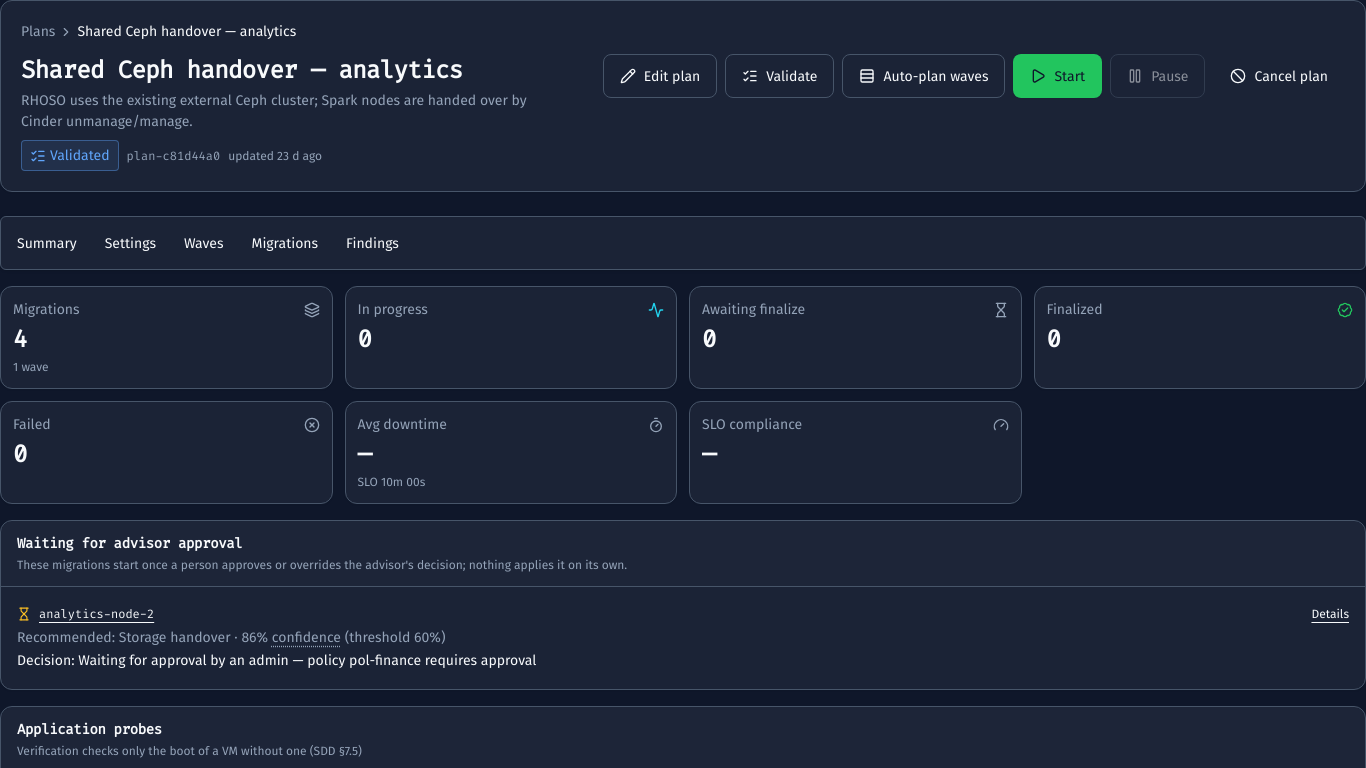
PlanDetail › names kept ports in the settings summary, and the edit form sends only that change (SDD §16)
Expected: the text "mac and fixed ips kept" is not shown
Click the button "Edit plan" at (660, 76), box [603,54,717,98]
(page scrolled)
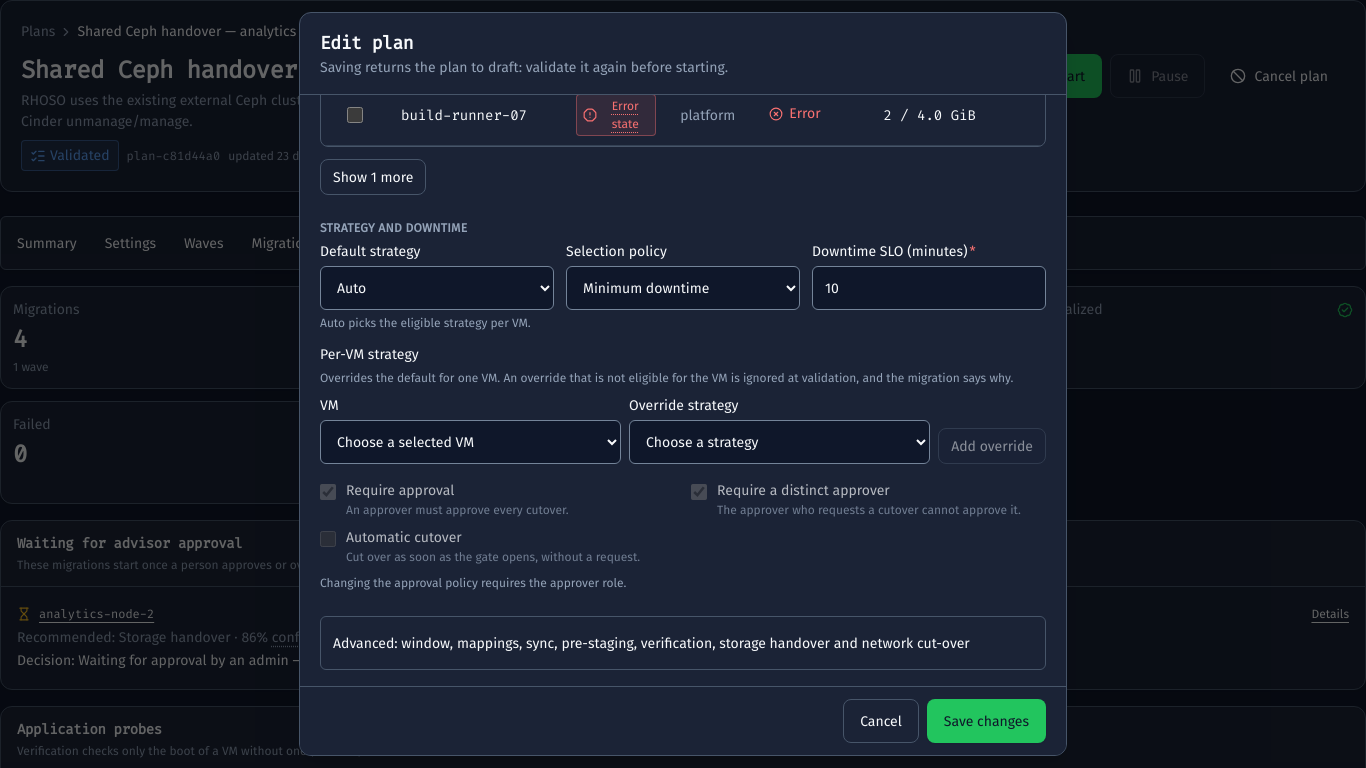
Click the heading "Advanced:" at (651, 643), box [333,634,970,652]
(page scrolled)
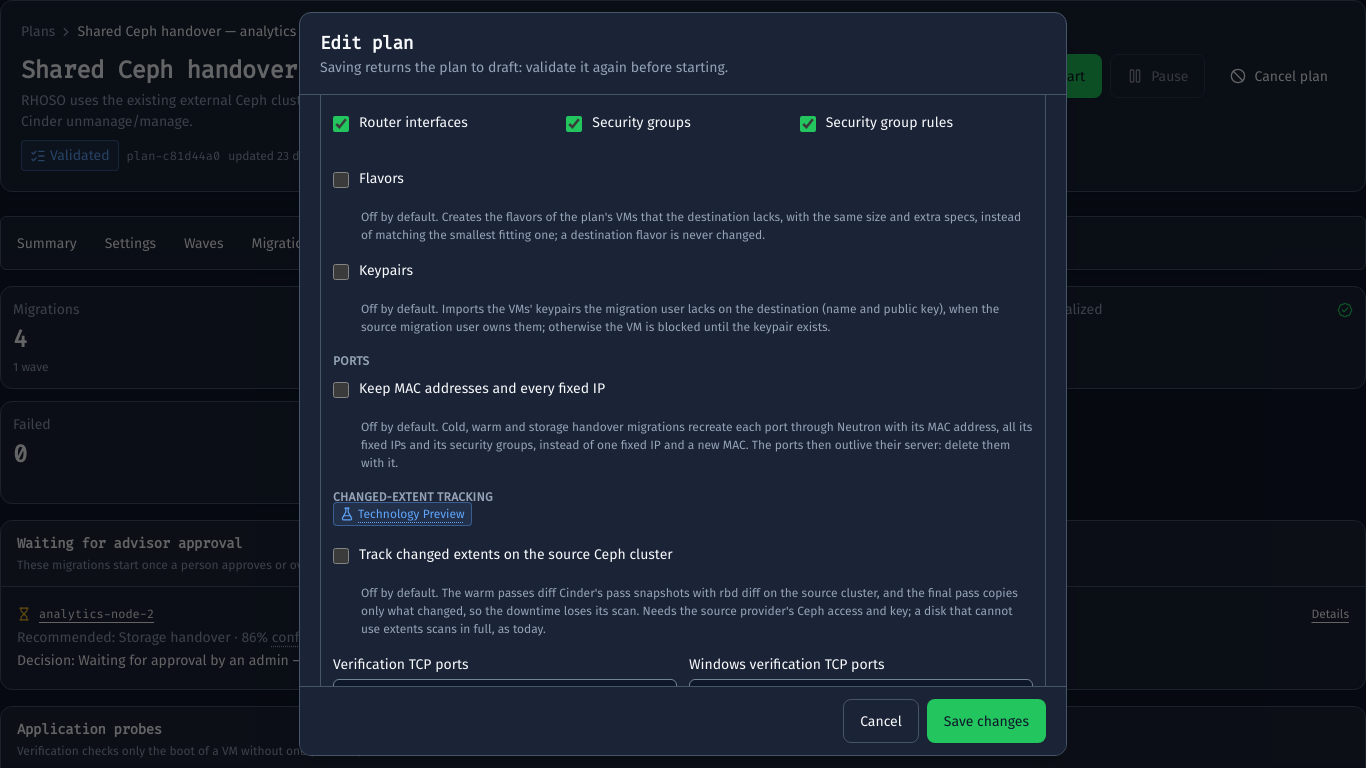
Click the checkbox labelled "Keep MAC addresses and every fixed IP" at (341, 390), box [333,382,349,398]
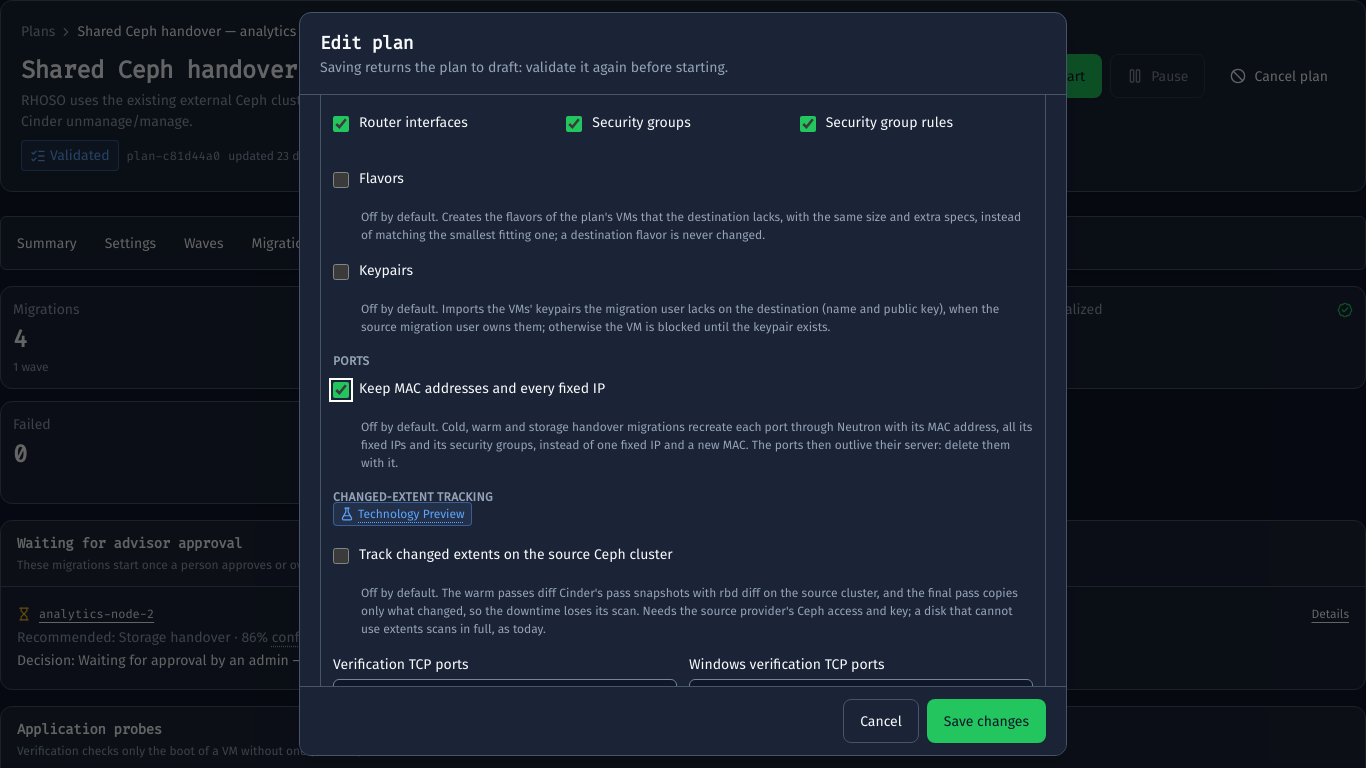
Click the button "Save changes" at (986, 721), box [927,699,1046,743]
(page scrolled)
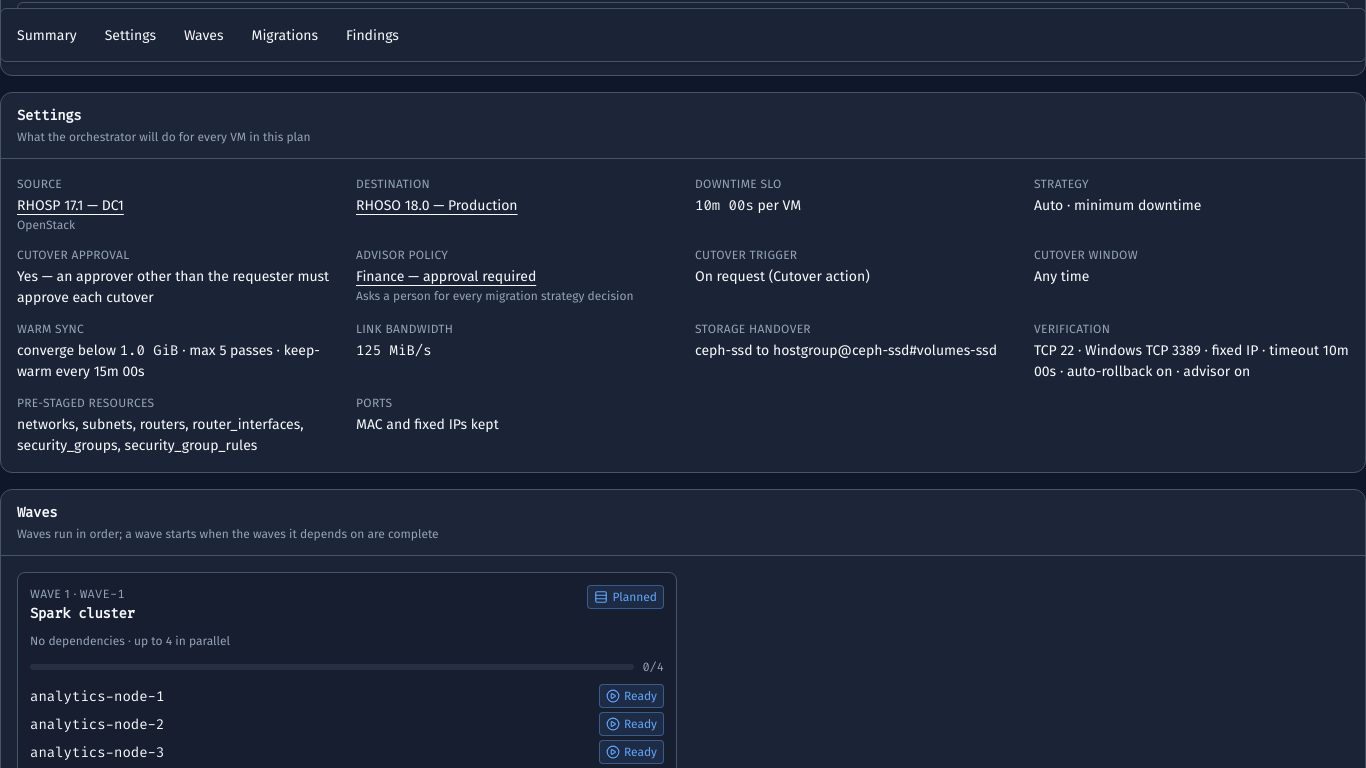
Now the dialog is gone
Now the text "MAC and fixed IPs kept" is shown, box [356,416,499,433]
